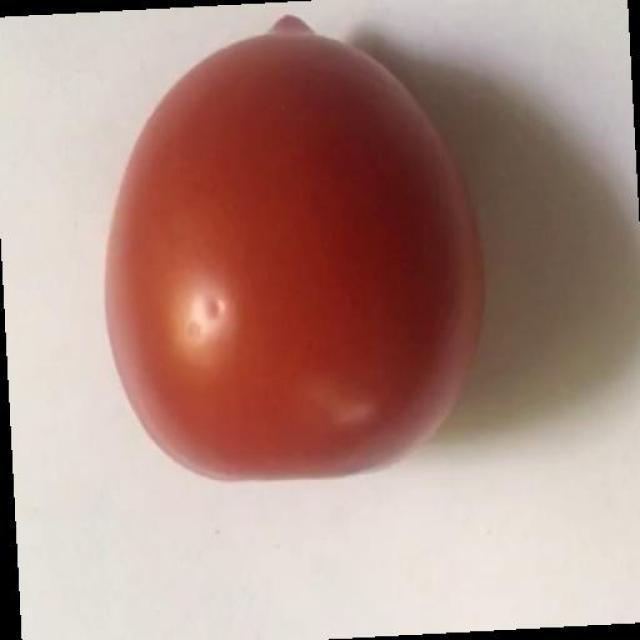Fresh Tomato: (78, 6, 510, 506)
